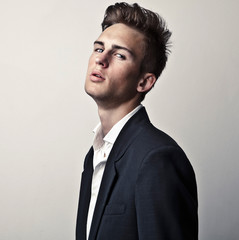young: (72, 6, 169, 101)
